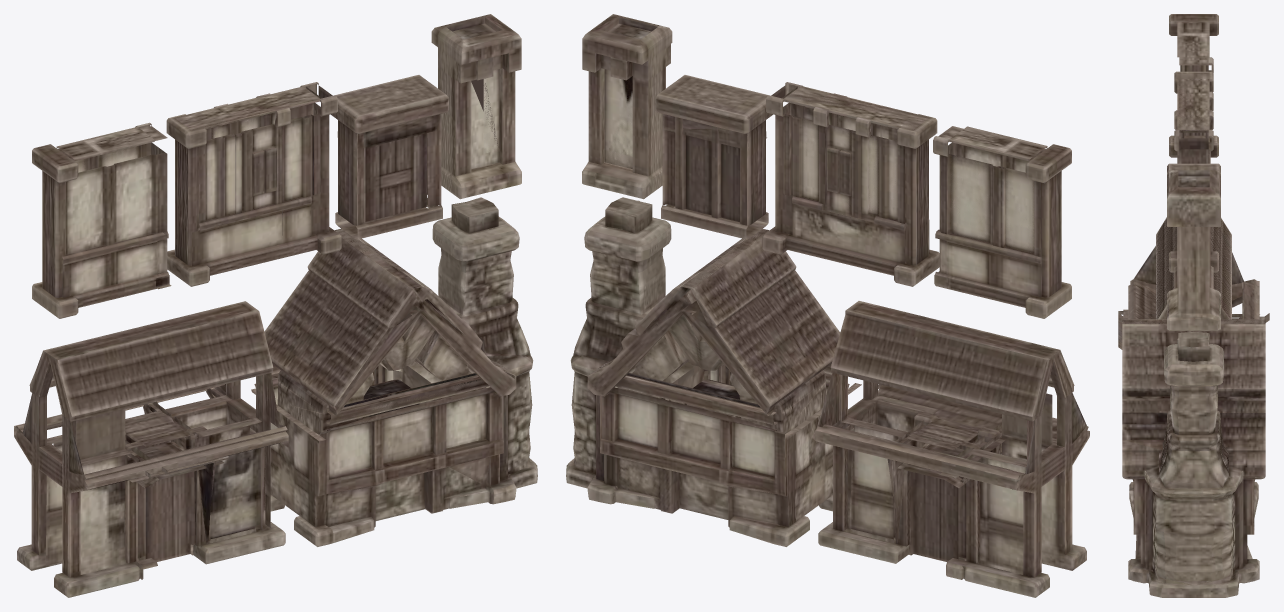
File: village_stone.glb
3 views of the same model, side by side, from view 1: azimuth 30°, elevation 25°; view 2: azimuth 150°, elevation 25°; view 3: azimuth 270°, elevation 25° (orthographic). The views are drawn at different scales.
Bounding box in the file's own units: 1.91 × 1.7 × 0.5832.
1 material, 1 textured.
